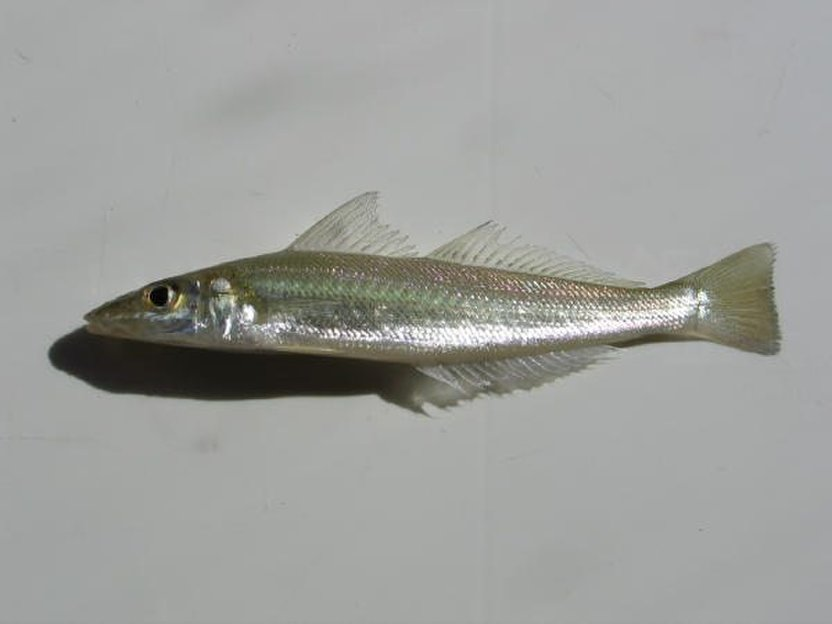kiss: (73, 205, 793, 398)
